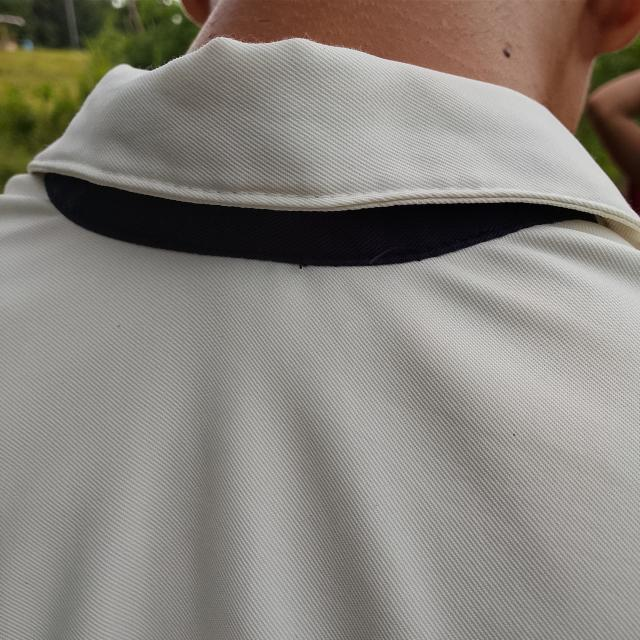education_male_uniform: (35, 24, 640, 397)
